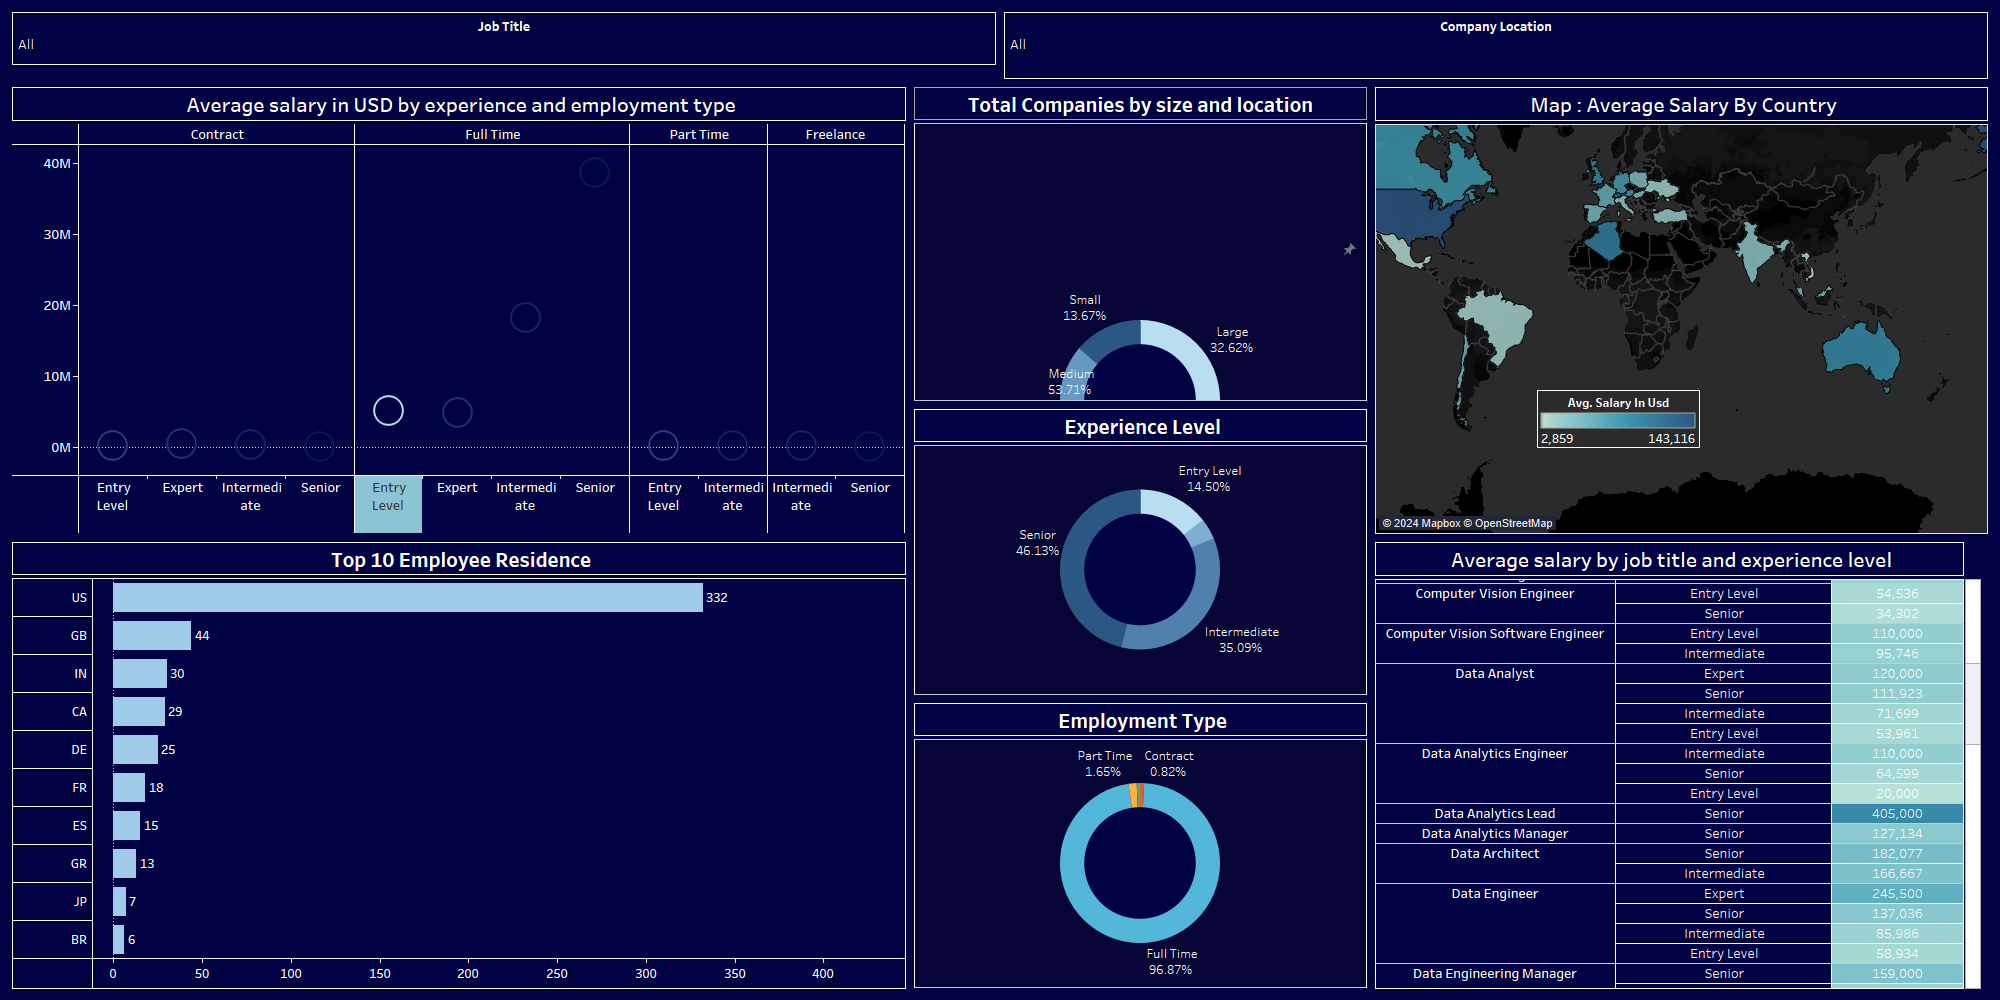

The dashboard page shown, as its layout file describes it:
{"tool":"tableau","page":{"name":"Dashboard 1","canvas":[2000,1000],"ordinal":0},"visuals":[{"type":"filter","title":" Average salary in USD by experience and employment type","param":"[federated.0y36aj71ez367m1e4zrhk11imxei].[none:job_title:nk]","box":[8,8,992,61]},{"type":"filter","title":" Average salary by job title and experience level","param":"[federated.0y36aj71ez367m1e4zrhk11imxei].[none:company_location:nk]","box":[1000,8,992,75]},{"type":"worksheet","title":" Average salary in USD by experience and employment type","mark":"Shape","rows":["salary_in_usd"],"cols":["employment_type","experience_level"],"box":[8,83,902,454.5]},{"type":"worksheet","title":"Total Companies by size and location","mark":"Pie","rows":["Calculation_445011991690100737","Calculation_445011991690100737"],"box":[910,83,461,322]},{"type":"worksheet","title":" Map : Average Salary By Country","mark":"Automatic","box":[1371,83,621,454.5]},{"type":"legend","title":" Map : Average Salary By Country","param":"[federated.0y36aj71ez367m1e4zrhk11imxei].[avg:salary_in_usd:qk]","box":[1537,390,163,69]},{"type":"worksheet","title":" Experience Level","mark":"Pie","rows":["Calculation_445011991690100737","Calculation_445011991690100737"],"box":[910,405,461,294]},{"type":"worksheet","title":" Top 10 Employee Residence","mark":"Automatic","rows":["employee_residence"],"cols":["employee_residence"],"box":[8,537.5,902,454.5]},{"type":"worksheet","title":" Average salary by job title and experience level","mark":"Square","rows":["job_title","experience_level"],"box":[1371,537.5,621,454.5]},{"type":"worksheet","title":" Employment Type","mark":"Pie","rows":["Calculation_445011991690100737","Calculation_445011991690100737"],"box":[910,699,461,293]}]}

Visuals, with their boxes in screenshot pixels (x1, y1, x2, y2), scaled from the page's 2000x1000 canvas onto the 2000x1000 screenshot:
" Average salary in USD by experience and employment type" filter: left=8, top=8, right=1000, bottom=69
" Average salary by job title and experience level" filter: left=1000, top=8, right=1992, bottom=83
" Average salary in USD by experience and employment type" worksheet (Shape marks): left=8, top=83, right=910, bottom=538
"Total Companies by size and location" worksheet (Pie marks): left=910, top=83, right=1371, bottom=405
" Map : Average Salary By Country" worksheet: left=1371, top=83, right=1992, bottom=538
" Map : Average Salary By Country" legend: left=1537, top=390, right=1700, bottom=459
" Experience Level" worksheet (Pie marks): left=910, top=405, right=1371, bottom=699
" Top 10 Employee Residence" worksheet: left=8, top=538, right=910, bottom=992
" Average salary by job title and experience level" worksheet (Square marks): left=1371, top=538, right=1992, bottom=992
" Employment Type" worksheet (Pie marks): left=910, top=699, right=1371, bottom=992
